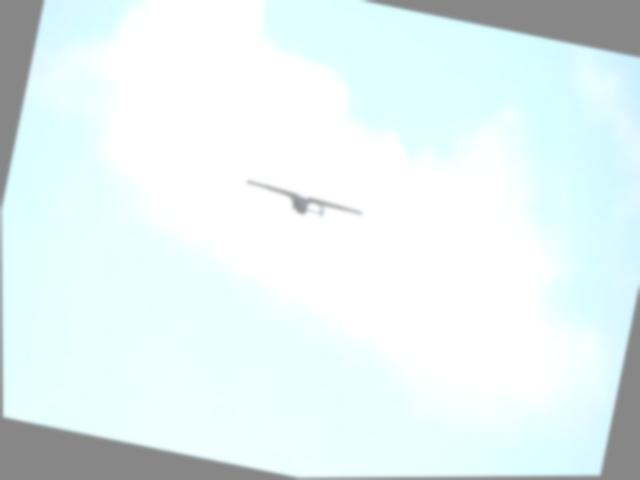uav: (237, 175, 369, 232)
